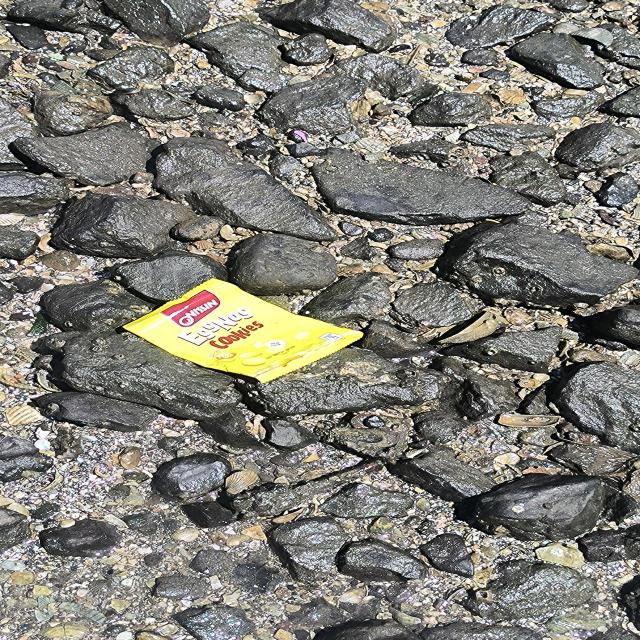plastic_waste: (122, 278, 365, 385)
